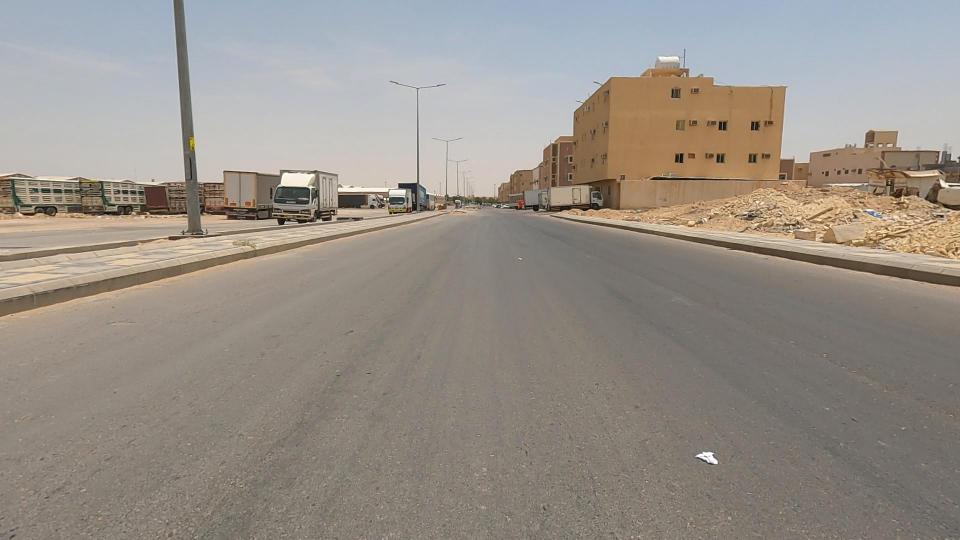GARBAGE: (664, 416, 744, 492), (825, 180, 912, 237), (663, 192, 735, 253), (716, 195, 785, 244)
